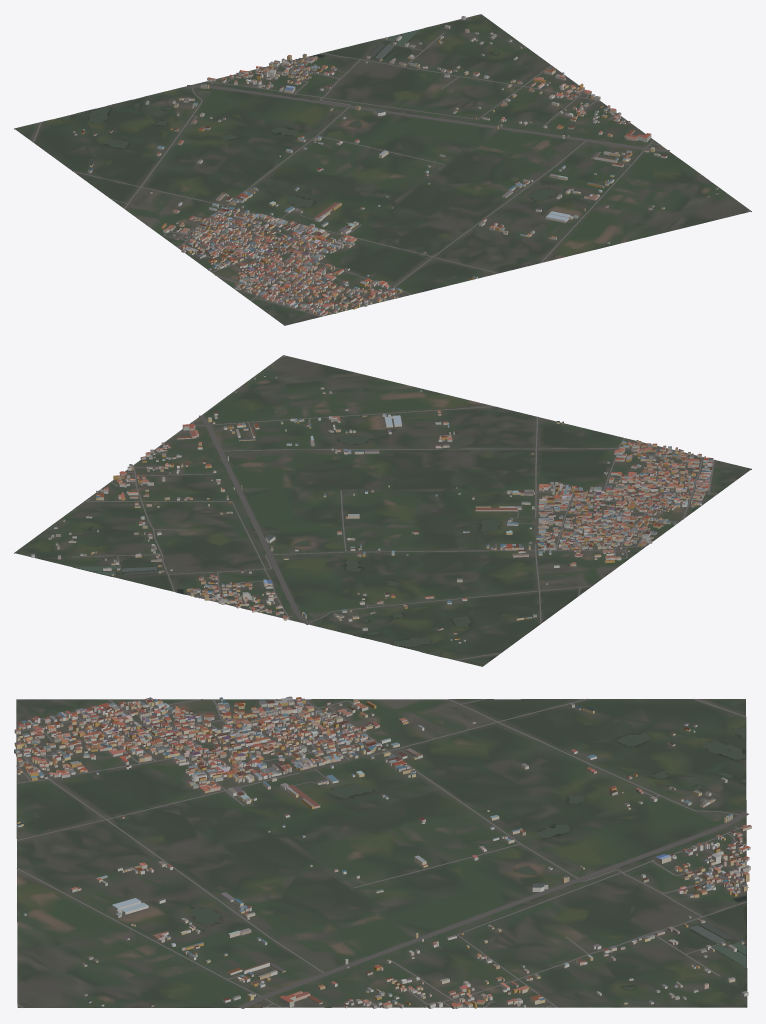
The picture shows the model from 3 angles, top to bottom: view 1: azimuth 30°, elevation 25°; view 2: azimuth 150°, elevation 25°; view 3: azimuth 270°, elevation 25°; orthographic projection. The views are drawn at different scales.
Visible parts, largest first — view 1: ground, buildings, roads, water; view 2: ground, buildings, roads, water; view 3: ground, buildings, roads, water.
Part boxes in pixels (bbox=[...]): ground: bbox=[14, 14, 751, 325]; buildings: bbox=[73, 16, 718, 316]; roads: bbox=[32, 32, 749, 316]; water: bbox=[57, 29, 557, 213]; ground: bbox=[14, 355, 751, 666]; buildings: bbox=[31, 375, 713, 643]; roads: bbox=[71, 356, 717, 660]; water: bbox=[75, 435, 505, 656]; ground: bbox=[16, 699, 747, 1007]; buildings: bbox=[14, 696, 751, 1008]; roads: bbox=[16, 698, 748, 1008]; water: bbox=[190, 723, 746, 990].
Size of the model in its own units: 1412 by 21.8 by 1417.
